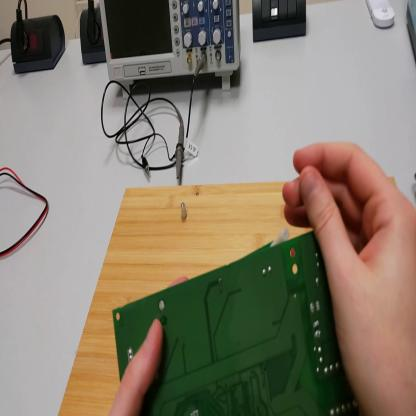hand: (285, 138, 416, 415), (110, 319, 163, 414)
low voltage board: (114, 232, 359, 416)
oscilloscope: (101, 1, 243, 103)
oscilloscope probe tip: (176, 115, 186, 182)
socket: (12, 17, 67, 77), (80, 7, 108, 68)
welder station: (408, 2, 416, 65)
working area: (58, 175, 310, 415)
